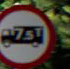Heavy Vehicles: (0, 3, 55, 65)
